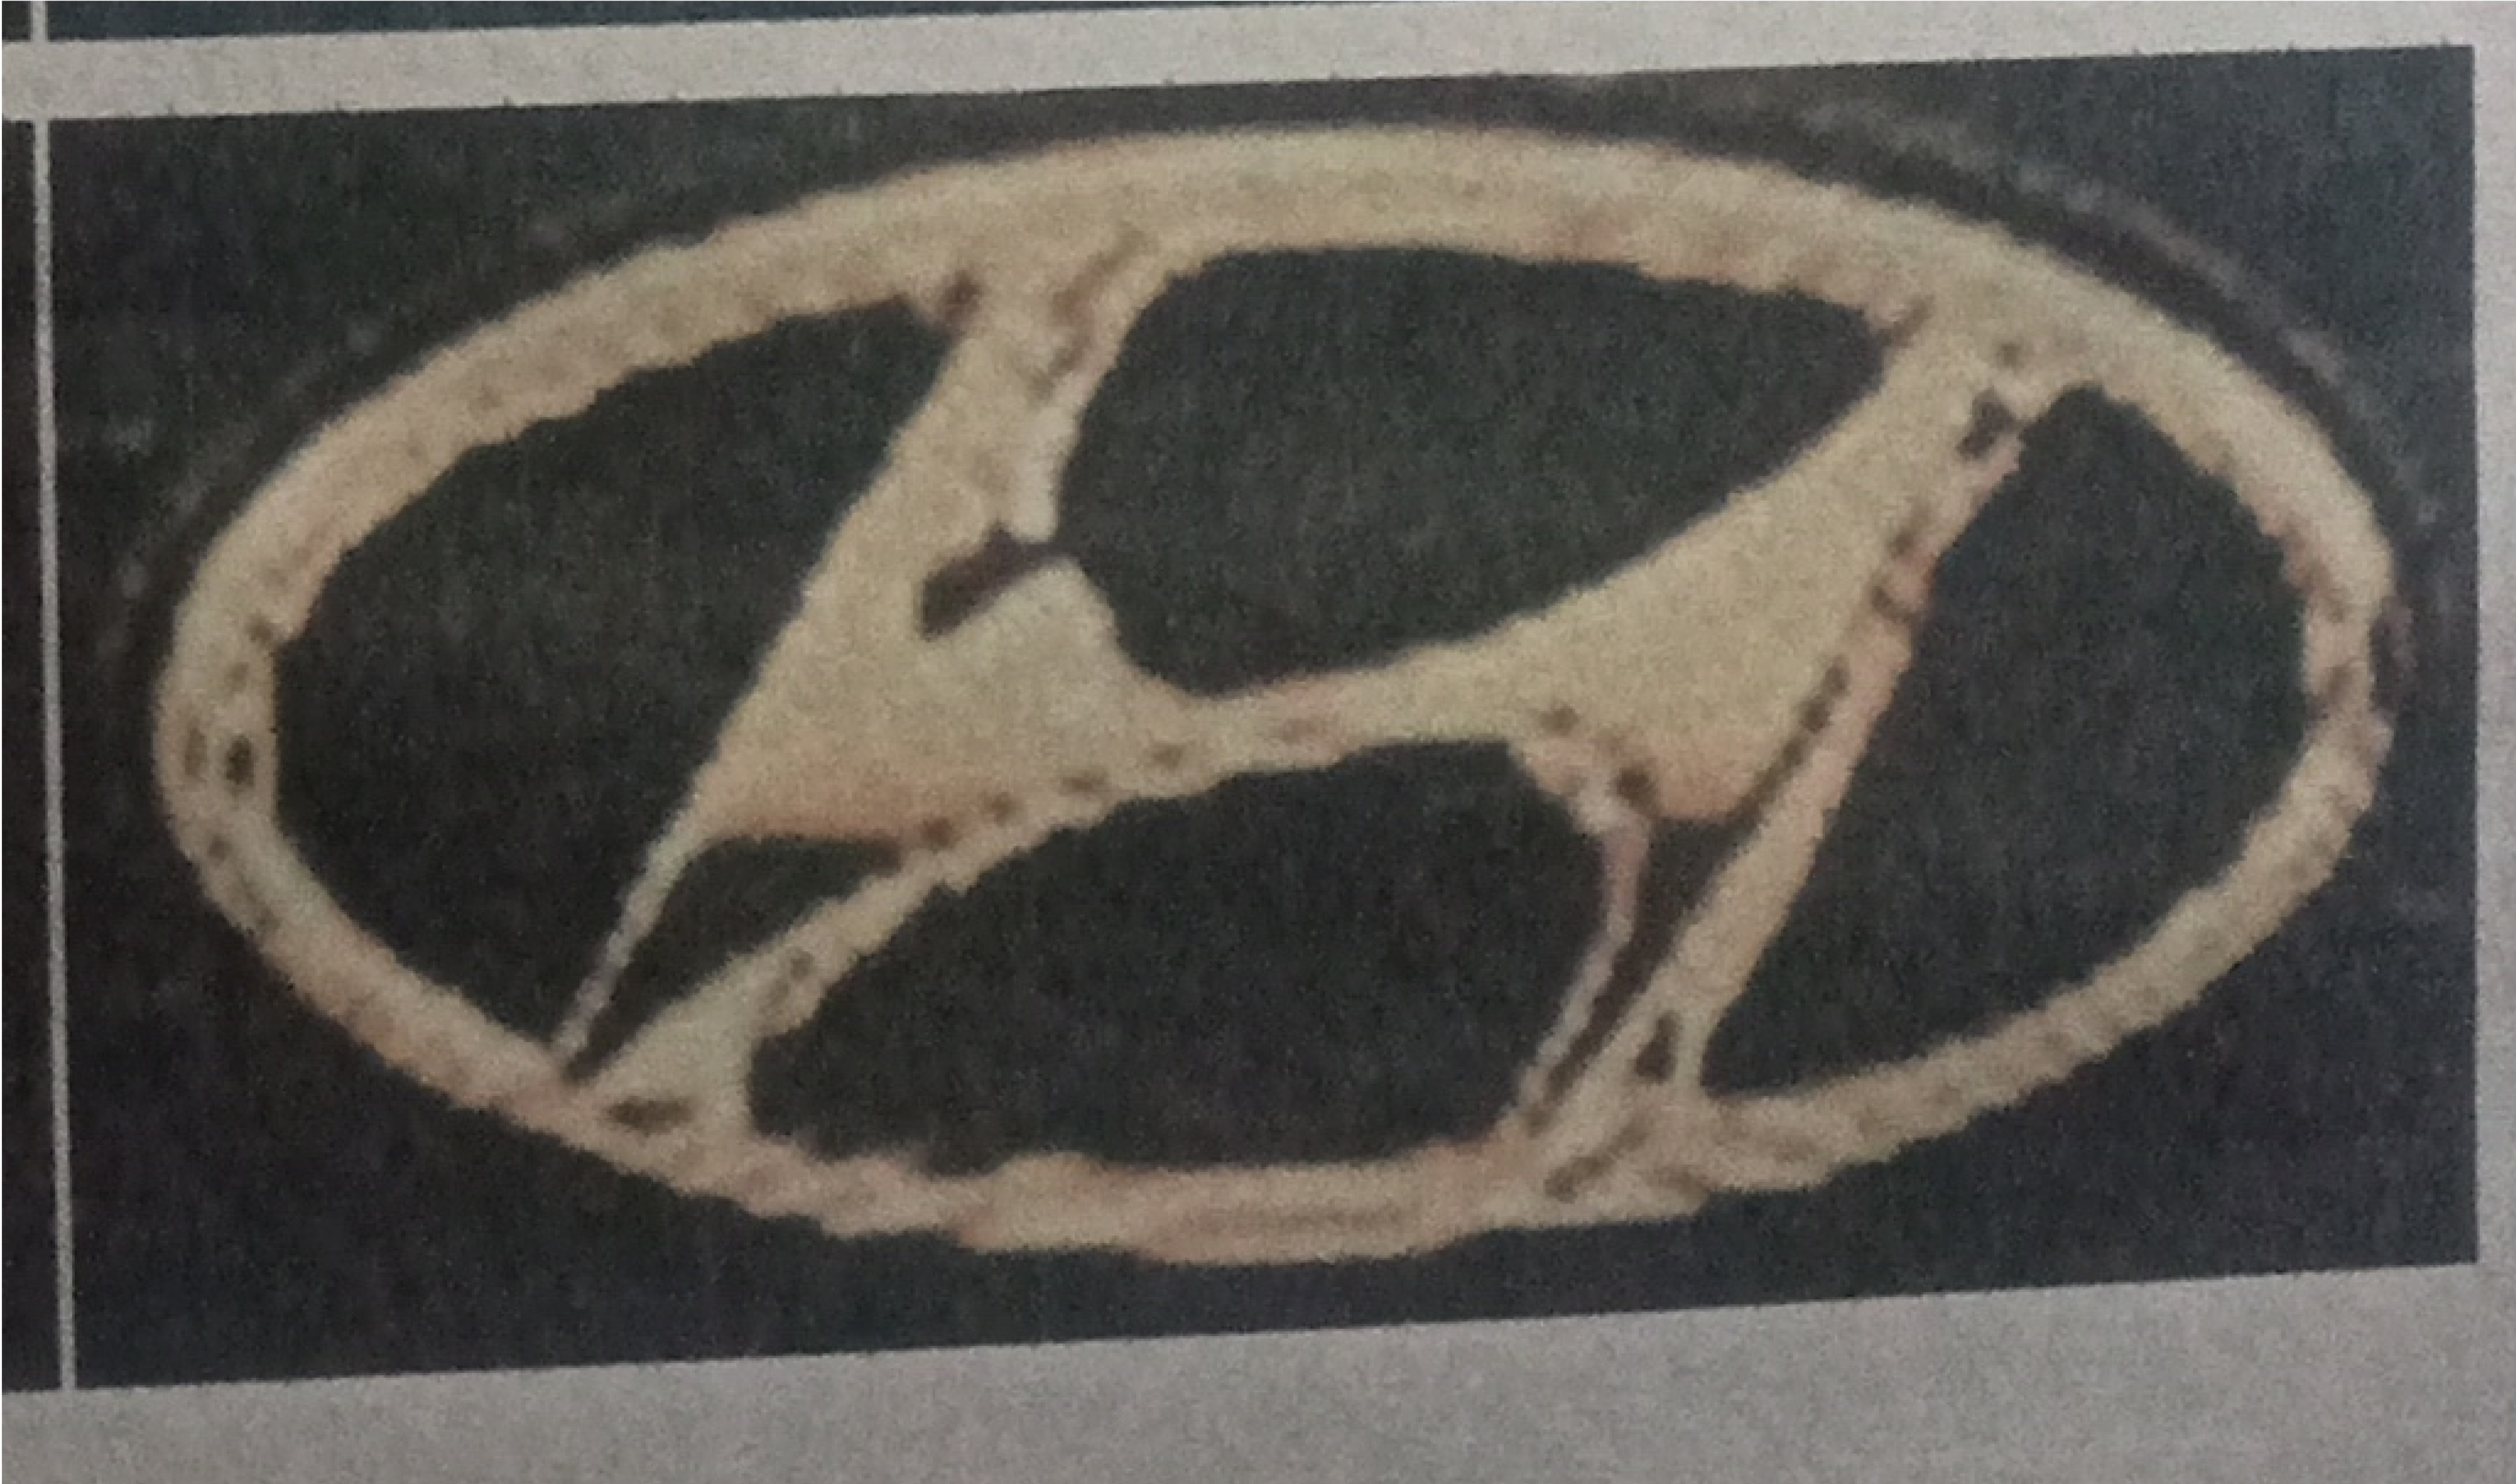Hyundai: (118, 92, 2445, 1313)
